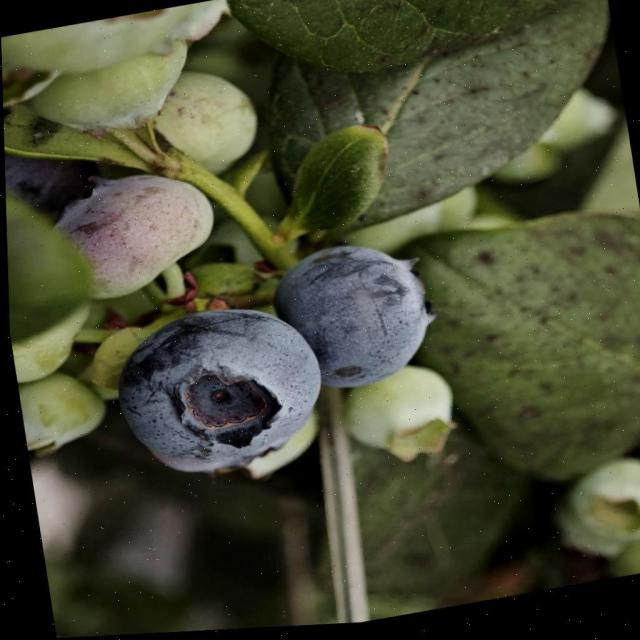RipeBlueBerry: (104, 293, 335, 489), (264, 233, 446, 405)
Semi-RipeBlueBerry: (46, 159, 226, 311)
